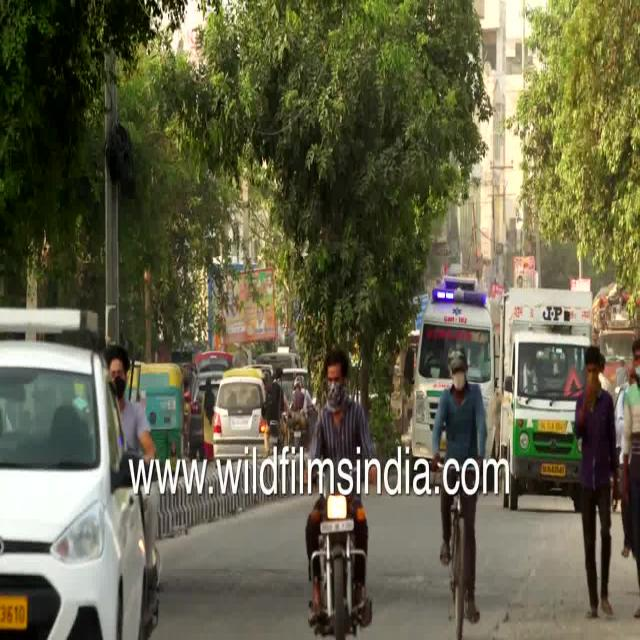ambulance: (403, 276, 495, 460)
